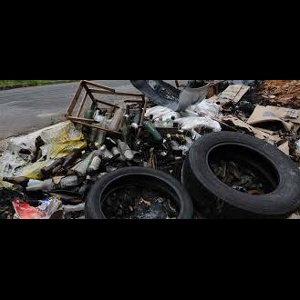tire: (182, 130, 300, 219), (85, 167, 193, 219)
